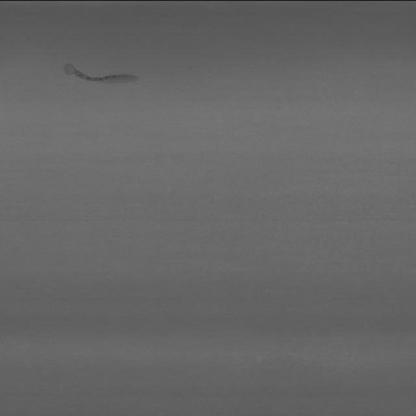water_spot: (55, 62, 158, 92)
